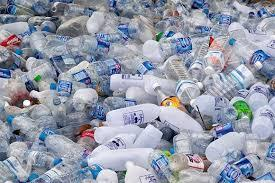Plastic bottle: (0, 0, 273, 182)
